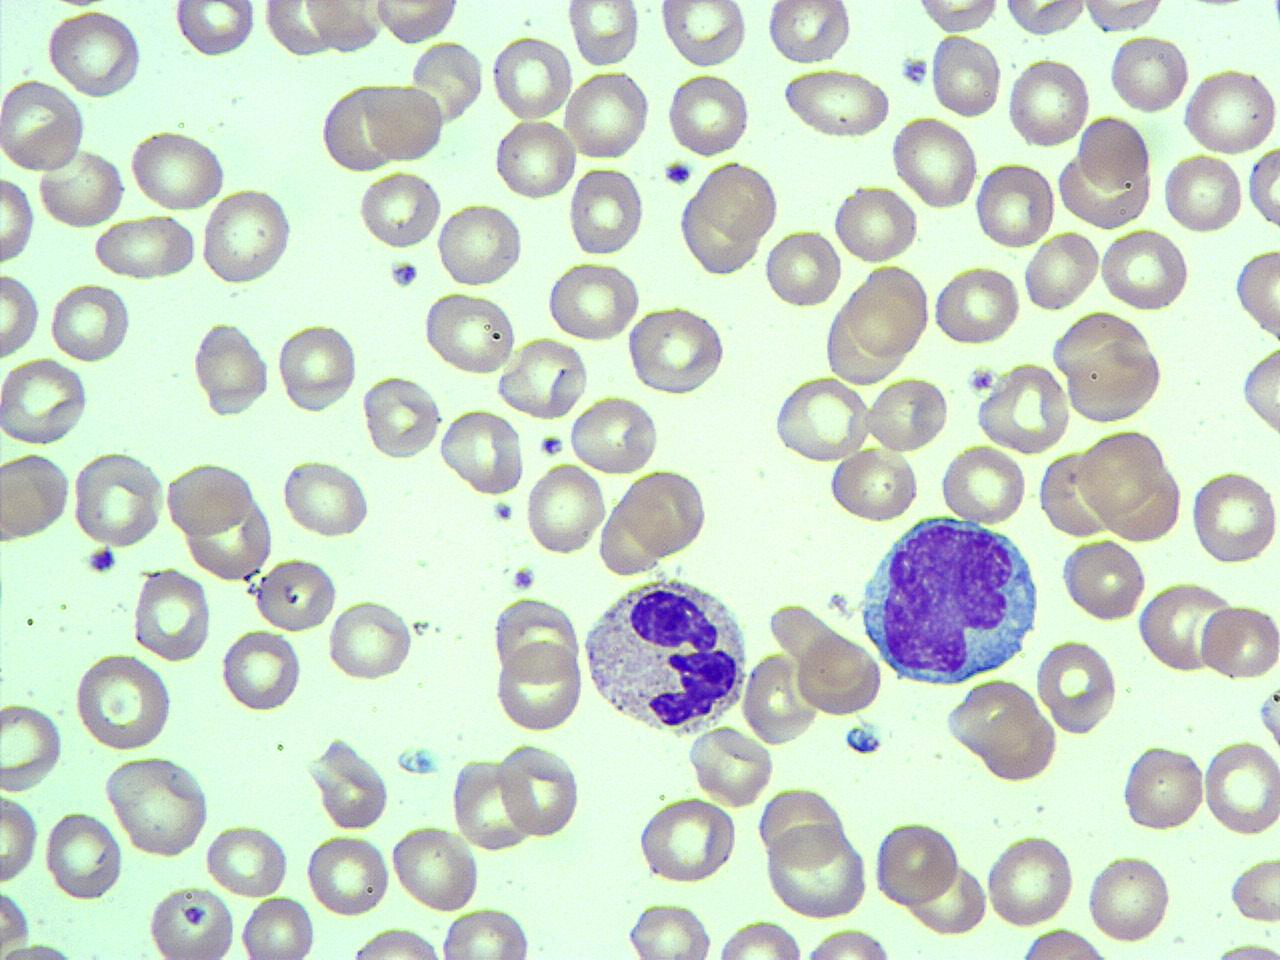Platelets: (394, 742, 441, 778), (842, 722, 884, 758), (83, 544, 118, 576), (898, 53, 930, 88), (387, 258, 420, 290), (966, 364, 998, 394), (662, 159, 694, 188), (509, 564, 539, 593), (538, 432, 566, 459), (490, 498, 515, 524)
RBC: (1052, 313, 1164, 420), (104, 752, 211, 860), (1074, 424, 1174, 536), (680, 160, 776, 275), (72, 651, 176, 753), (200, 184, 298, 287), (763, 824, 870, 918), (626, 302, 728, 398), (44, 7, 146, 101), (71, 449, 166, 548), (636, 796, 738, 886), (975, 360, 1072, 454), (770, 376, 872, 465), (1181, 64, 1279, 156), (1190, 466, 1278, 567), (561, 68, 654, 163), (889, 114, 980, 211), (986, 832, 1077, 928), (494, 638, 584, 734), (496, 739, 582, 838), (434, 199, 525, 292), (1085, 851, 1173, 947), (846, 262, 932, 360), (1035, 636, 1121, 734), (450, 754, 534, 854), (127, 128, 228, 211), (388, 824, 481, 914), (0, 76, 85, 174), (0, 354, 90, 446), (1119, 741, 1207, 835), (306, 734, 390, 832), (1005, 56, 1093, 149), (496, 335, 592, 420), (422, 290, 518, 375), (544, 259, 642, 342), (780, 65, 891, 138), (1098, 226, 1192, 312), (438, 405, 526, 496), (871, 818, 959, 909), (1202, 736, 1280, 838), (275, 321, 360, 414), (755, 784, 849, 868), (191, 319, 272, 416), (493, 596, 582, 684), (930, 263, 1023, 347), (281, 456, 374, 540), (944, 676, 1039, 758), (526, 462, 608, 557), (1058, 536, 1146, 624), (666, 69, 751, 159), (162, 459, 256, 540), (132, 567, 212, 662), (974, 160, 1057, 251), (35, 147, 127, 229), (626, 467, 708, 559), (569, 394, 661, 476), (43, 808, 123, 902), (326, 598, 413, 684), (305, 830, 392, 916), (355, 167, 443, 252), (825, 444, 918, 524), (490, 34, 574, 122), (686, 725, 775, 807), (92, 213, 199, 281), (568, 164, 645, 258), (220, 628, 304, 714), (48, 279, 132, 364), (495, 118, 579, 203), (254, 552, 340, 635), (940, 445, 1028, 526), (832, 184, 919, 265), (362, 374, 442, 462), (410, 38, 488, 128), (1107, 32, 1191, 115), (794, 634, 880, 715), (146, 884, 237, 960), (1161, 151, 1243, 235), (1197, 599, 1279, 682), (320, 83, 395, 173), (0, 450, 73, 542), (764, 226, 843, 311), (362, 82, 443, 163), (1022, 230, 1102, 312), (866, 375, 949, 453), (929, 32, 1003, 119), (981, 701, 1059, 783), (658, 0, 750, 68), (205, 823, 288, 898), (0, 700, 65, 795), (1078, 114, 1152, 195), (766, 0, 852, 65), (623, 901, 716, 959), (564, 0, 642, 69), (438, 906, 536, 960), (239, 894, 316, 960), (173, 0, 257, 58), (302, 0, 385, 55), (1233, 245, 1279, 340), (1238, 341, 1280, 440), (371, 0, 463, 44), (0, 268, 43, 360), (1227, 853, 1279, 928), (712, 918, 806, 959), (0, 793, 41, 885), (0, 166, 36, 268), (1011, 926, 1117, 960), (800, 925, 899, 960), (346, 924, 447, 958), (1002, 0, 1090, 37), (1080, 0, 1170, 33), (914, 0, 1002, 33), (1247, 140, 1279, 229), (0, 883, 33, 954)
WBC: (852, 512, 1044, 686), (576, 570, 754, 738)
